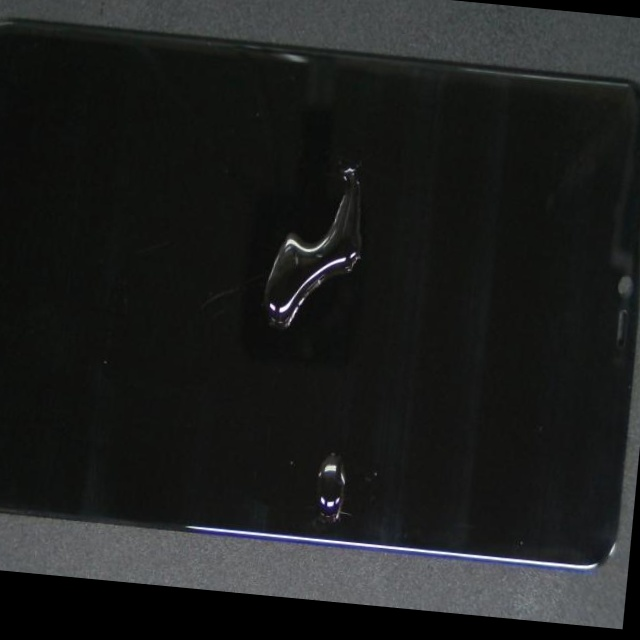oil: (114, 175, 545, 618), (62, 150, 470, 512)
